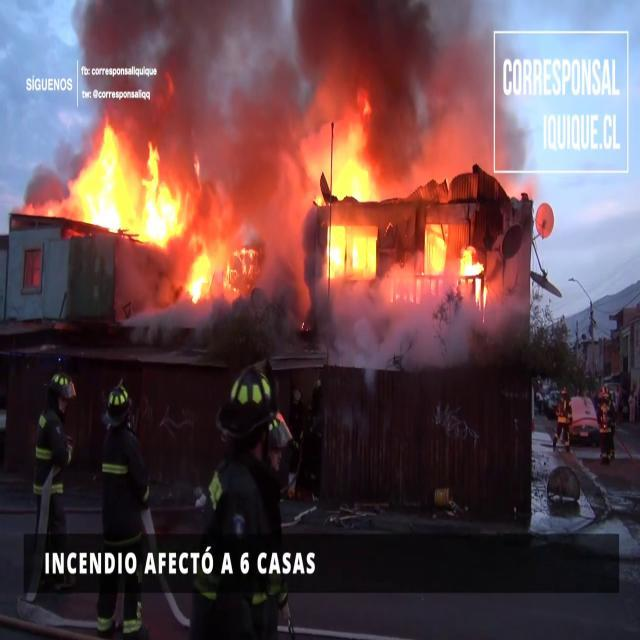Fire: (58, 118, 190, 244), (300, 94, 392, 270), (181, 223, 255, 306), (422, 216, 492, 302), (456, 242, 492, 304)
Smoke: (64, 0, 532, 171)
